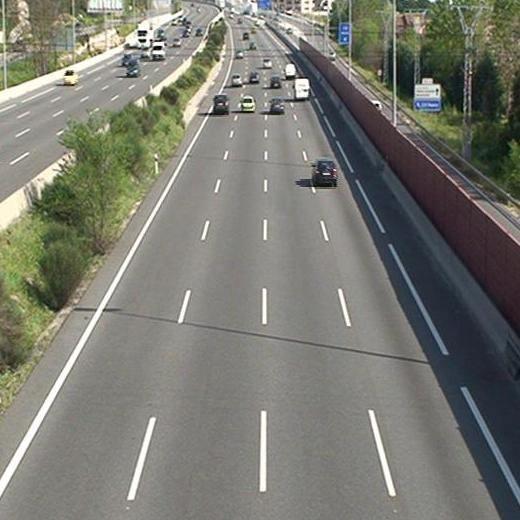car: (311, 160, 337, 185), (213, 93, 228, 113), (269, 97, 286, 114), (242, 95, 254, 111), (230, 73, 242, 86), (269, 77, 281, 89), (247, 71, 259, 82), (261, 58, 271, 68)
van: (292, 78, 309, 101), (284, 62, 296, 77)
